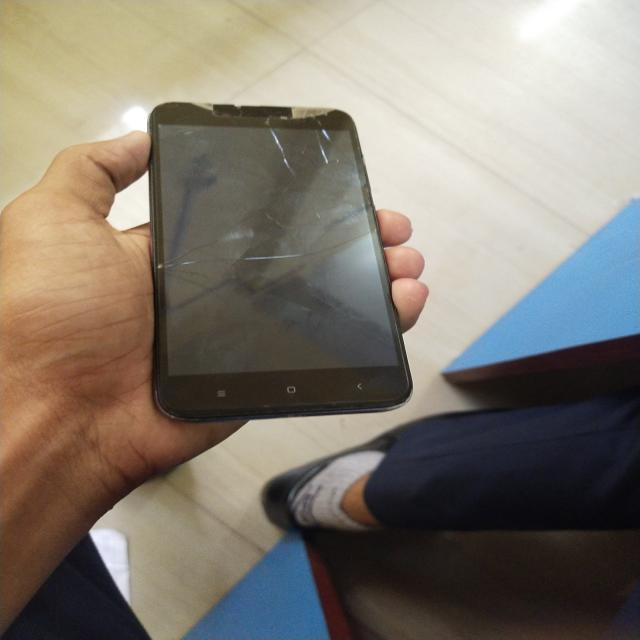Crack: (154, 109, 362, 217), (153, 243, 221, 294)
